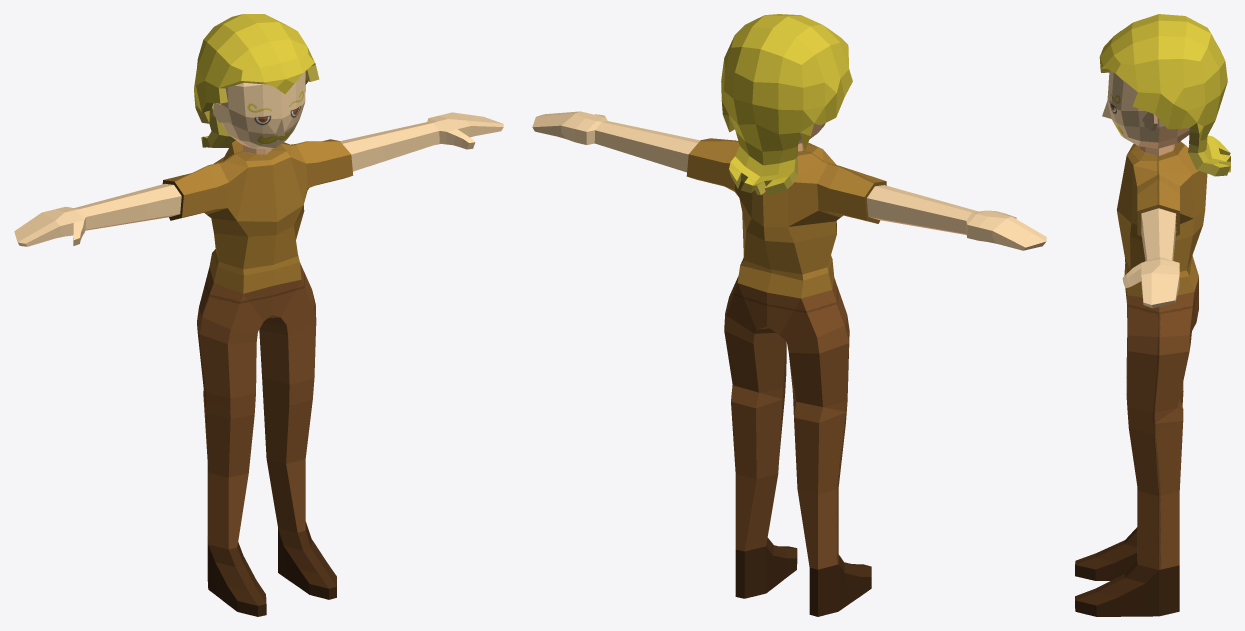
File: Sr.China.fbx
3 renders of one model, left to right at view 1: azimuth 30°, elevation 25°; view 2: azimuth 150°, elevation 25°; view 3: azimuth 270°, elevation 25°, orthographic. The views are drawn at different scales.
Visible parts, largest first — view 1: body; view 2: body; view 3: body.
Boxes of the visible parts, left/top/right/bottom form: body: left=14, top=14, right=503, bottom=616; body: left=532, top=14, right=1046, bottom=616; body: left=1075, top=14, right=1230, bottom=616.
Size of the model in its own units: 360 by 393 by 97.18.
Materials: 1 (1 with a texture image).
